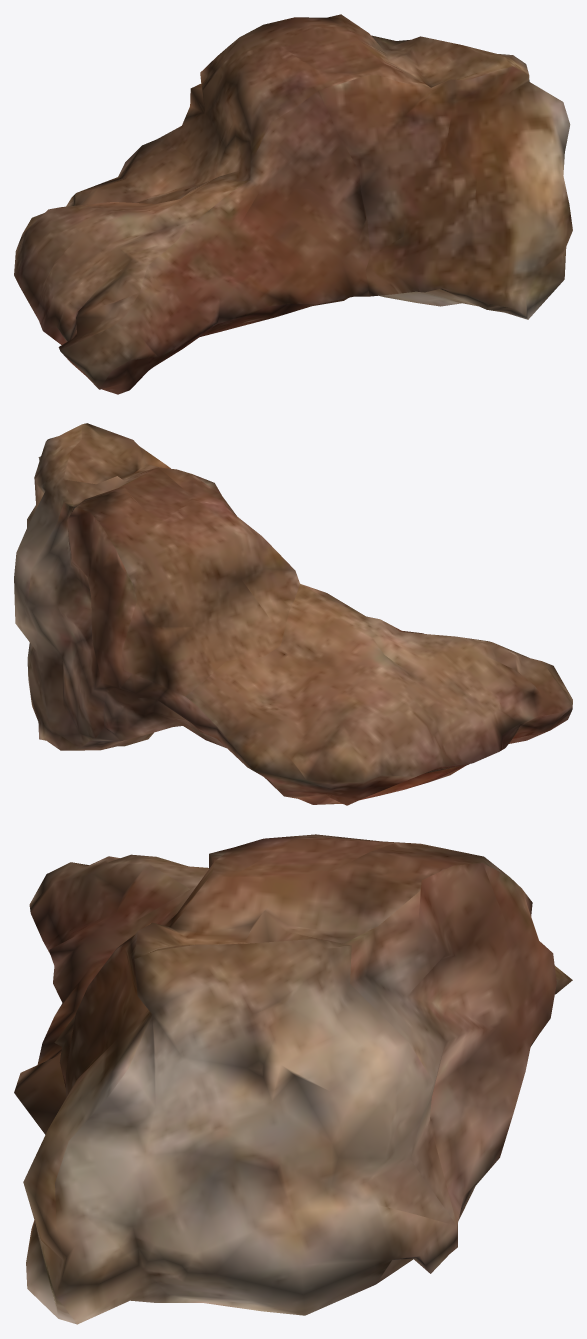
Rendered from stone_01.glb.
3 views of the same model, one above another, from view 1: azimuth 30°, elevation 25°; view 2: azimuth 150°, elevation 25°; view 3: azimuth 270°, elevation 25° (orthographic). The views are drawn at different scales.
Visible parts, largest first — view 1: stone_01; view 2: stone_01; view 3: stone_01.
Boxes of the visible parts, box(x1,y1,x2,y2) form: stone_01: box(14, 14, 572, 394); stone_01: box(14, 423, 572, 805); stone_01: box(14, 834, 572, 1324).
Size of the model in its own units: 0.1461 by 0.0714 by 0.0886.
1 material, 1 textured.
